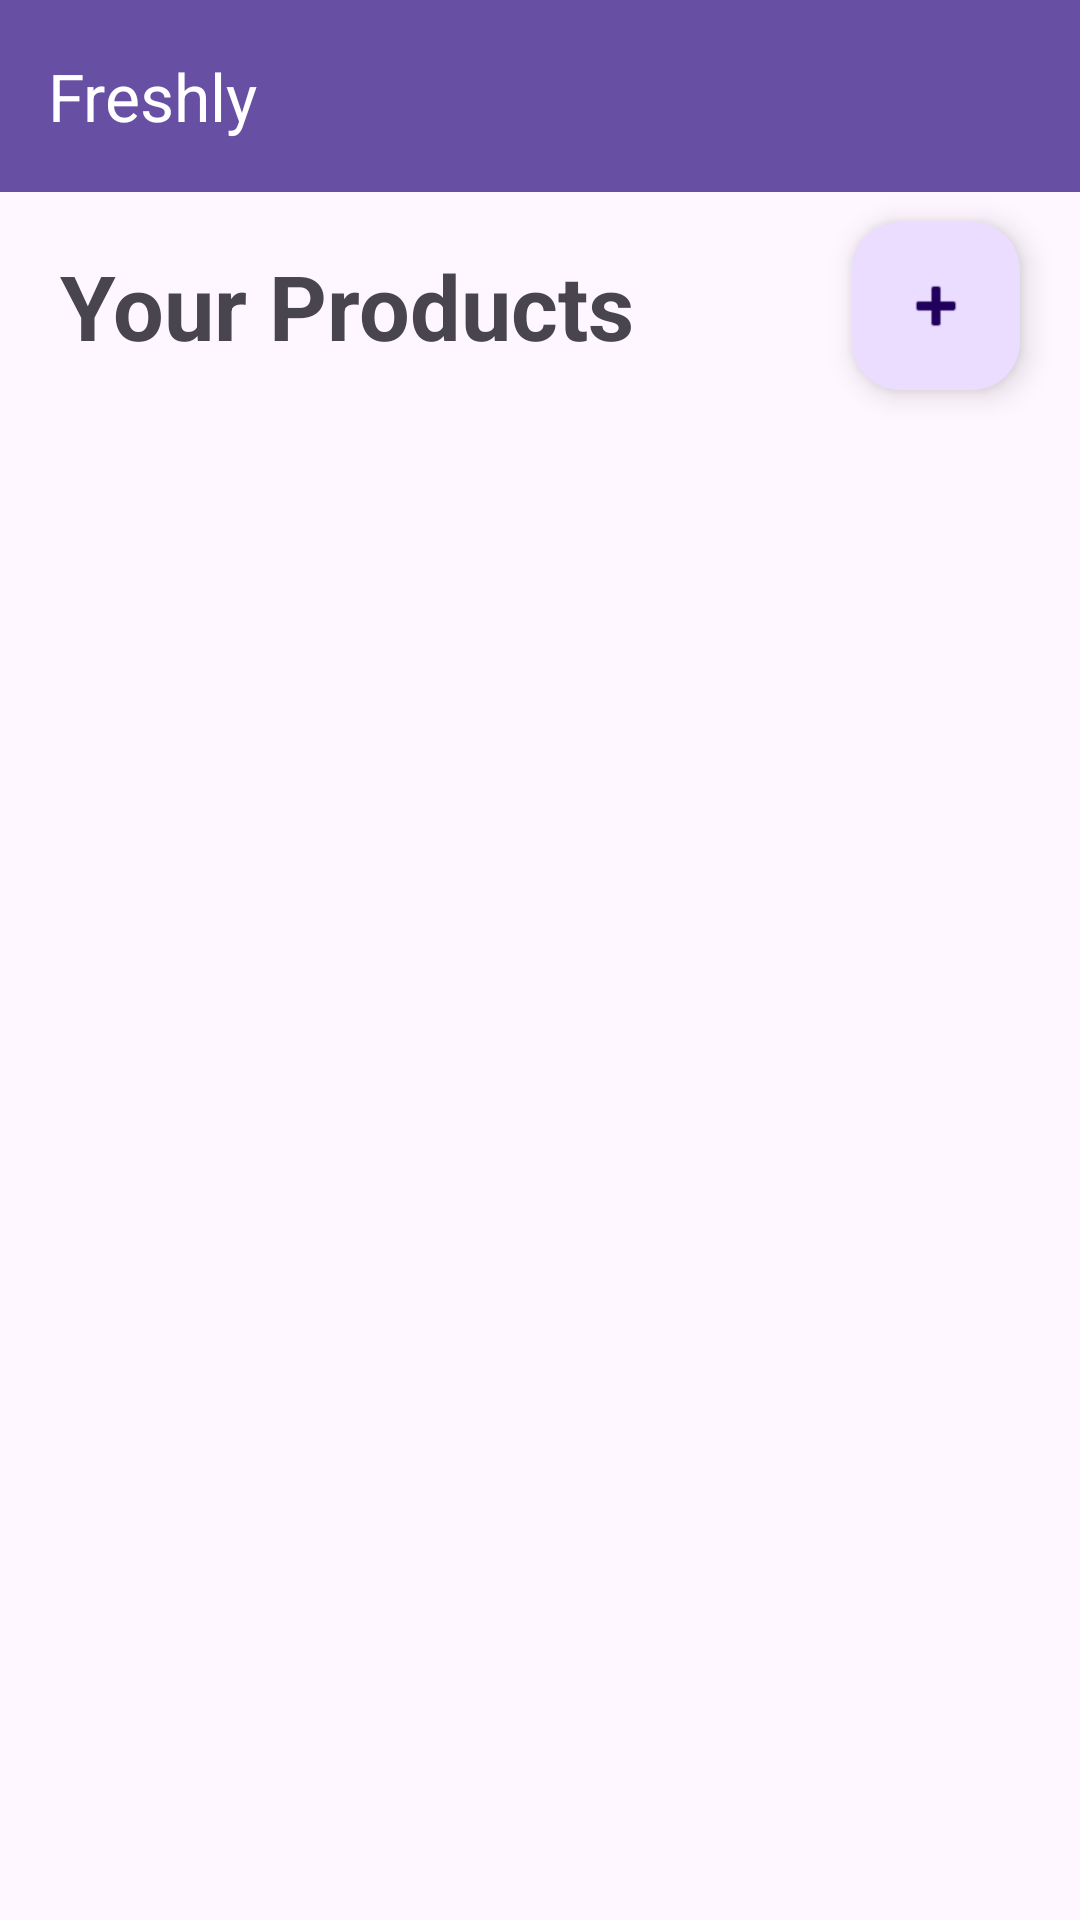

Icon click points for this 1080 x 1920 phone screenshot, format (x,y):
add: (936,306)
